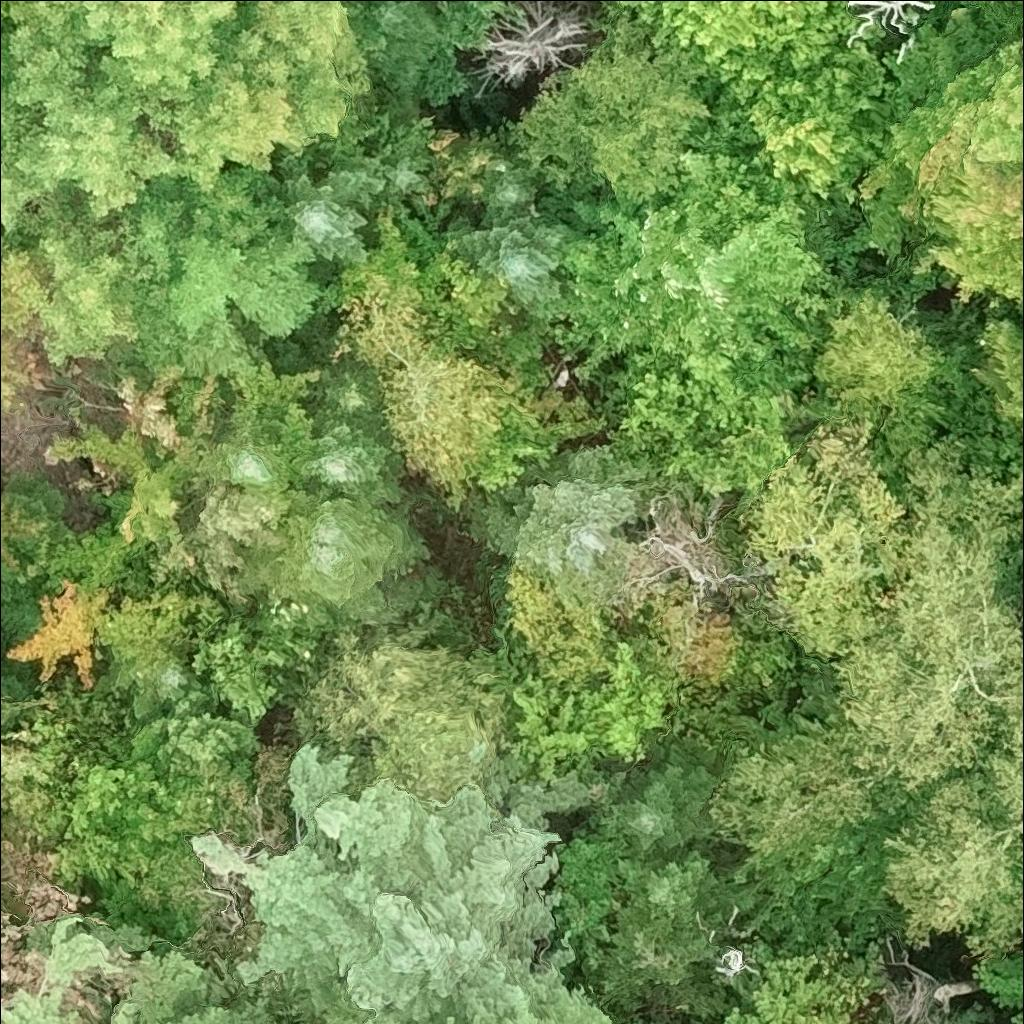crown: (189, 740, 608, 1023), (542, 108, 872, 381), (0, 0, 374, 234), (798, 433, 1023, 817), (118, 161, 322, 386), (877, 649, 1023, 960), (858, 37, 1023, 310), (331, 278, 526, 503), (42, 362, 226, 599), (504, 8, 724, 199), (737, 418, 907, 655), (703, 704, 901, 863), (602, 350, 817, 496), (716, 39, 895, 209), (0, 912, 274, 1023), (600, 0, 861, 104), (496, 636, 670, 782), (803, 272, 957, 427), (475, 444, 644, 579), (63, 762, 225, 887), (587, 733, 734, 850), (276, 481, 435, 578), (445, 206, 577, 322), (36, 218, 138, 367), (238, 527, 392, 622), (266, 154, 387, 264), (466, 0, 589, 101), (720, 950, 878, 1023), (10, 583, 113, 692), (419, 247, 524, 350), (611, 842, 726, 935), (296, 425, 413, 514), (303, 356, 396, 451), (475, 407, 571, 491), (376, 88, 438, 207), (969, 315, 1023, 447), (0, 473, 73, 569), (203, 434, 296, 501), (0, 696, 53, 812), (837, 0, 937, 49), (506, 984, 622, 1023), (0, 912, 41, 1013), (479, 159, 542, 221), (967, 955, 1023, 1023), (434, 0, 520, 44), (136, 667, 207, 719), (1005, 453, 1023, 500), (0, 565, 18, 597), (362, 1011, 404, 1023), (431, 1012, 461, 1023), (0, 373, 7, 407), (470, 1016, 483, 1023), (1019, 514, 1023, 535), (343, 0, 357, 6), (973, 0, 989, 5), (1019, 307, 1023, 312)
